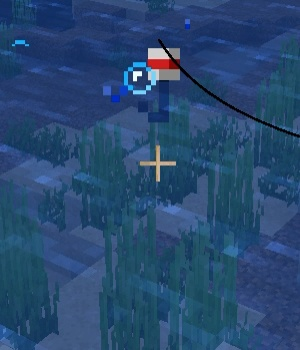up: (134, 46, 184, 126)
